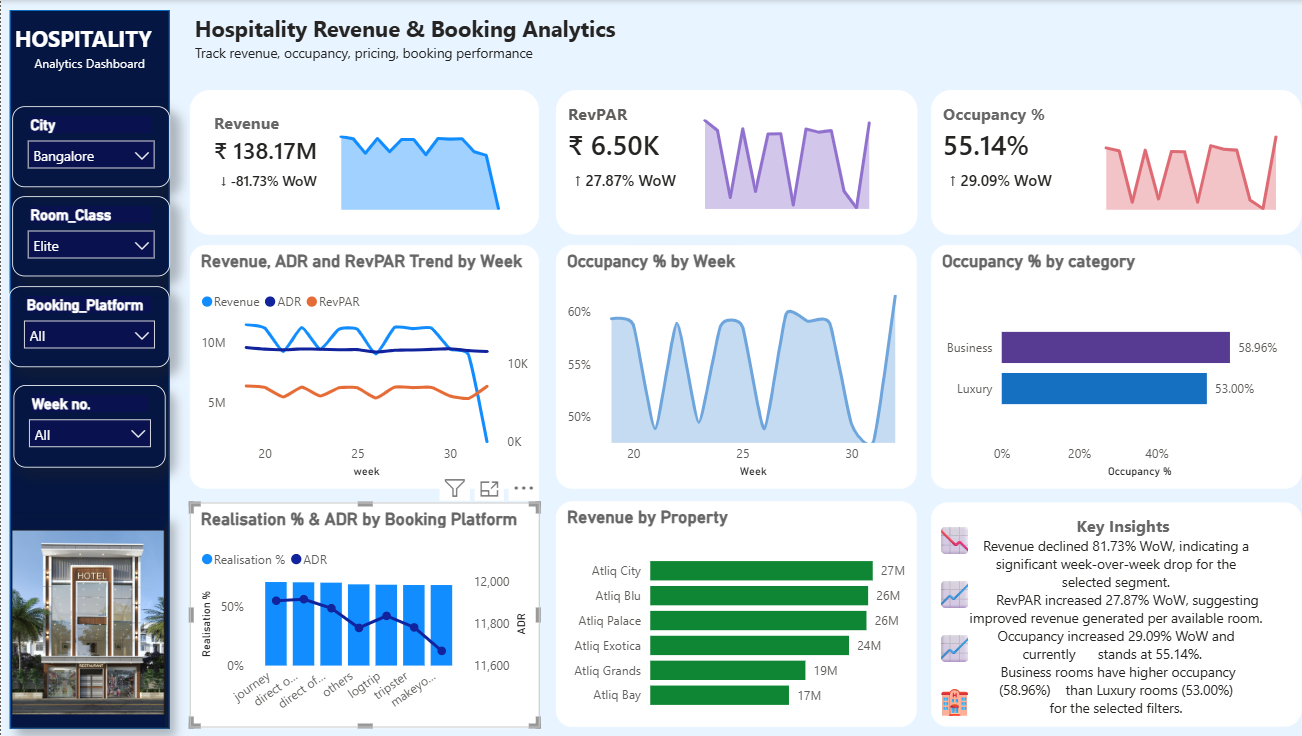

This screenshot's page, from the dashboard's own definition file:
{"tool":"powerbi","page":{"name":"Dashboard","canvas":[1280,720],"ordinal":0},"visuals":[{"type":"shape","box":[8.6,9.8,156.5,703.1],"z":0},{"type":"textbox","box":[184.6,8.6,523.4,67.3],"z":1000},{"type":"slicer","fields":{"Values":["Dim_Hotels.city"]},"box":[11,103.9,154.1,79.5],"z":2000},{"type":"slicer","fields":{"Values":["Dim_rooms.room_class"]},"box":[11,192,154.1,78.3],"z":3000},{"type":"slicer","fields":{"Values":["fact_bookings.booking_platform"]},"box":[7.3,280,157.7,79.5],"z":4000},{"type":"slicer","fields":{"Values":["Dim_Date.date.Variation.Date Hierarchy.Month"]},"box":[611.4,244.6,96.6,68.5],"z":5000},{"type":"slicer","fields":{"Values":["Dim_Date.Wn"]},"box":[12.2,376.6,149.2,80.7],"z":6000},{"type":"shape","box":[184.6,88,1087.1,171.2],"z":7000},{"type":"cardVisual","fields":{"Data":["Key_measures (2).Revenue"]},"box":[184.6,88,341.7,141.3],"z":8000},{"type":"cardVisual","fields":{"Data":["Key_measures (2).RevPAR"]},"box":[542.9,88,353.4,141.8],"z":9000},{"type":"cardVisual","fields":{"Data":["Key_measures (2).Occupancy %"]},"box":[909.8,87.8,362.3,141.3],"z":10000},{"type":"lineChart","fields":{"Category":["Dim_Date.Wn"],"Y":["Key_measures (2).Revenue"]},"box":[318.4,119.4,183.9,90.6],"z":11000},{"type":"lineChart","fields":{"Category":["Dim_Date.Wn"],"Y":["Key_measures (2).RevPAR"]},"box":[673.8,104.3,190.7,105.7],"z":12000},{"type":"lineChart","fields":{"Category":["Dim_Date.Wn"],"Y":["Key_measures (2).Occupancy %"]},"box":[1066.2,119.4,196.2,90.6],"z":13000},{"type":"shape","box":[185.2,240.1,1086.8,238.8],"z":14000},{"type":"lineChart","title":"Revenue, ADR and RevPAR Trend by Week","fields":{"Category":["Dim_Date.Wn"],"Y":["Key_measures (2).Revenue"],"Y2":["Key_measures (2).ADR","Key_measures (2).RevPAR"]},"box":[185.2,240.1,341.7,238.8],"z":15000},{"type":"areaChart","title":"Occupancy % by Week","fields":{"Category":["Dim_Date.Wn"],"Y":["Key_measures (2).Occupancy %"]},"box":[543.4,240.1,352.7,238.8],"z":16000},{"type":"barChart","fields":{"Category":["Dim_Hotels.category"],"Y":["Key_measures (2).Occupancy %"]},"box":[909.8,240.1,362.3,238.8],"z":17000},{"type":"shape","box":[185.2,491.3,1086.8,220.9],"z":18000},{"type":"lineClusteredColumnComboChart","title":"Realisation %  & ADR by Booking Platform","fields":{"Category":["fact_bookings.booking_platform"],"Y":["Key_measures (2).Realisation %"],"Y2":["Key_measures (2).ADR"]},"box":[185.2,491.3,341.7,220.9],"z":19000},{"type":"textbox","box":[909.8,491.3,362.3,219.6],"z":20000},{"type":"clusteredBarChart","title":"Revenue by Property","fields":{"Category":["Dim_Hotels.property_name"],"Y":["Key_measures (2).Revenue"]},"box":[543.4,489.9,352.7,220.9],"z":21000},{"type":"shape","box":[909.8,490.4,50.8,219.6],"z":22000},{"type":"textbox","box":[8.2,17.8,156.4,86.4],"z":23000},{"type":"image","box":[11,506.3,149.6,204.5],"z":24000},{"type":"textbox","box":[909.8,486.7,51.4,226.2],"z":25000}]}

Visuals, with their boxes in screenshot pixels (x1, y1, x2, y2), scaled from the page's 1280x720 canvas onto the 1302x736 screenshot:
shape: [left=9, top=10, right=168, bottom=729]
textbox: [left=188, top=9, right=720, bottom=78]
slicer - Dim_Hotels.city: [left=11, top=106, right=168, bottom=187]
slicer - Dim_rooms.room_class: [left=11, top=196, right=168, bottom=276]
slicer - fact_bookings.booking_platform: [left=7, top=286, right=168, bottom=367]
slicer - Dim_Date.date.Variation.Date Hierarchy.Month: [left=622, top=250, right=720, bottom=320]
slicer - Dim_Date.Wn: [left=12, top=385, right=164, bottom=467]
shape: [left=188, top=90, right=1294, bottom=265]
cardVisual - Key_measures (2).Revenue: [left=188, top=90, right=535, bottom=234]
cardVisual - Key_measures (2).RevPAR: [left=552, top=90, right=912, bottom=235]
cardVisual - Key_measures (2).Occupancy %: [left=925, top=90, right=1294, bottom=234]
lineChart - Dim_Date.Wn x Key_measures (2).Revenue: [left=324, top=122, right=511, bottom=215]
lineChart - Dim_Date.Wn x Key_measures (2).RevPAR: [left=685, top=107, right=879, bottom=215]
lineChart - Dim_Date.Wn x Key_measures (2).Occupancy %: [left=1085, top=122, right=1284, bottom=215]
shape: [left=188, top=245, right=1294, bottom=490]
"Revenue, ADR and RevPAR Trend by Week" lineChart: [left=188, top=245, right=536, bottom=490]
"Occupancy % by Week" areaChart: [left=553, top=245, right=912, bottom=490]
barChart - Dim_Hotels.category x Key_measures (2).Occupancy %: [left=925, top=245, right=1294, bottom=490]
shape: [left=188, top=502, right=1294, bottom=728]
"Realisation %  & ADR by Booking Platform" lineClusteredColumnComboChart: [left=188, top=502, right=536, bottom=728]
textbox: [left=925, top=502, right=1294, bottom=727]
"Revenue by Property" clusteredBarChart: [left=553, top=501, right=912, bottom=727]
shape: [left=925, top=501, right=977, bottom=726]
textbox: [left=8, top=18, right=167, bottom=107]
image: [left=11, top=518, right=163, bottom=727]
textbox: [left=925, top=498, right=978, bottom=729]
